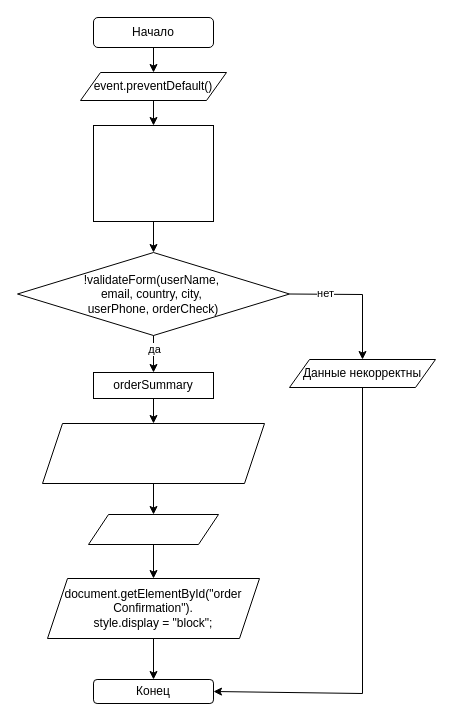
The diagram is 453 pixels wide and 721 high, and some of its shapes have lost their labels. Here are the shapes that lost their labels. From the top down, the centre of each, then its label:
[153,173]: userName email country city userPhone orderCheck
[153,453]: document.getElementById("order-summary"). innerHTML = orderSummary;
[153,529]: closeOrderModal();
